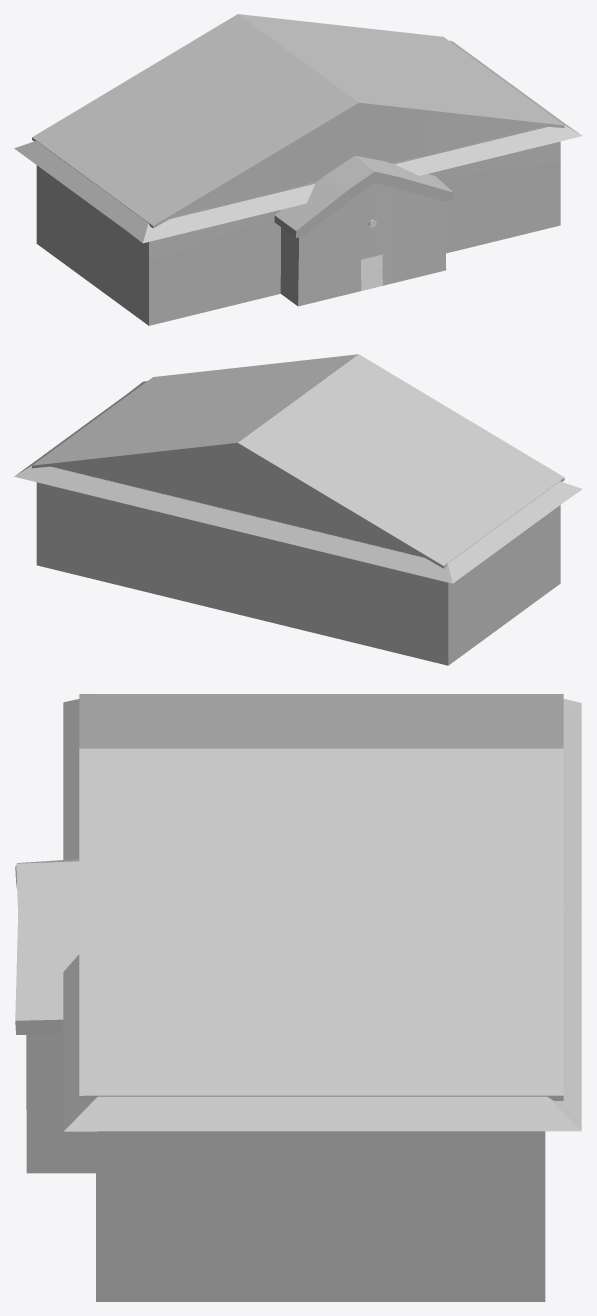
The model's file is træhus3.fbx.
3 renders of one model, top to bottom at view 1: azimuth 30°, elevation 25°; view 2: azimuth 150°, elevation 25°; view 3: azimuth 270°, elevation 25°, orthographic. The views are drawn at different scales.
Visible parts, largest first — view 1: Cube, Cube.001; view 2: Cube, Cube.001; view 3: Cube, Cube.001.
Boxes of the visible parts, left/top/right/bottom form: Cube: left=32, top=14, right=564, bottom=325; Cube.001: left=14, top=40, right=582, bottom=243; Cube: left=32, top=354, right=564, bottom=665; Cube.001: left=14, top=381, right=582, bottom=583; Cube: left=15, top=694, right=563, bottom=1301; Cube.001: left=63, top=699, right=581, bottom=1131.
Size of the model in its own units: 4072 by 1560 by 2269.
